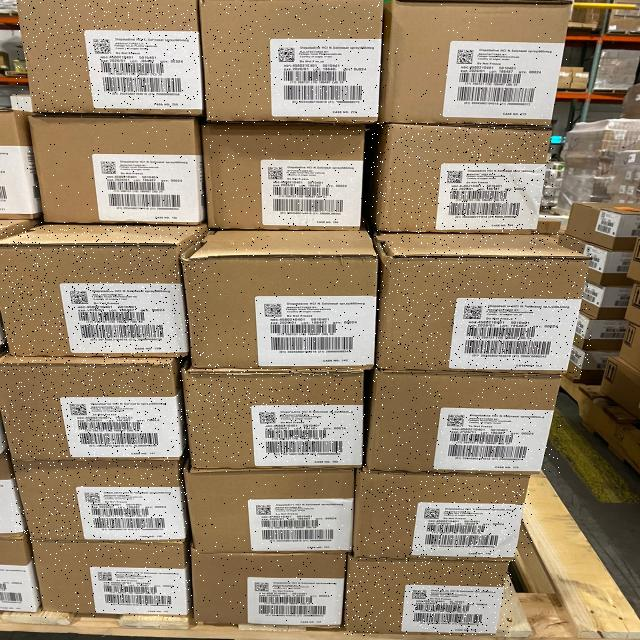BoxFace: (374, 230, 592, 375), (180, 228, 380, 370), (1, 222, 208, 358), (380, 0, 574, 126), (198, 0, 384, 124), (16, 0, 203, 116), (364, 368, 562, 474), (371, 122, 553, 234), (26, 113, 204, 225), (180, 364, 366, 471), (1, 354, 184, 462), (200, 122, 367, 231), (352, 468, 532, 562), (182, 462, 355, 554), (11, 457, 187, 543), (344, 556, 512, 636), (189, 546, 347, 629), (29, 537, 189, 618)
